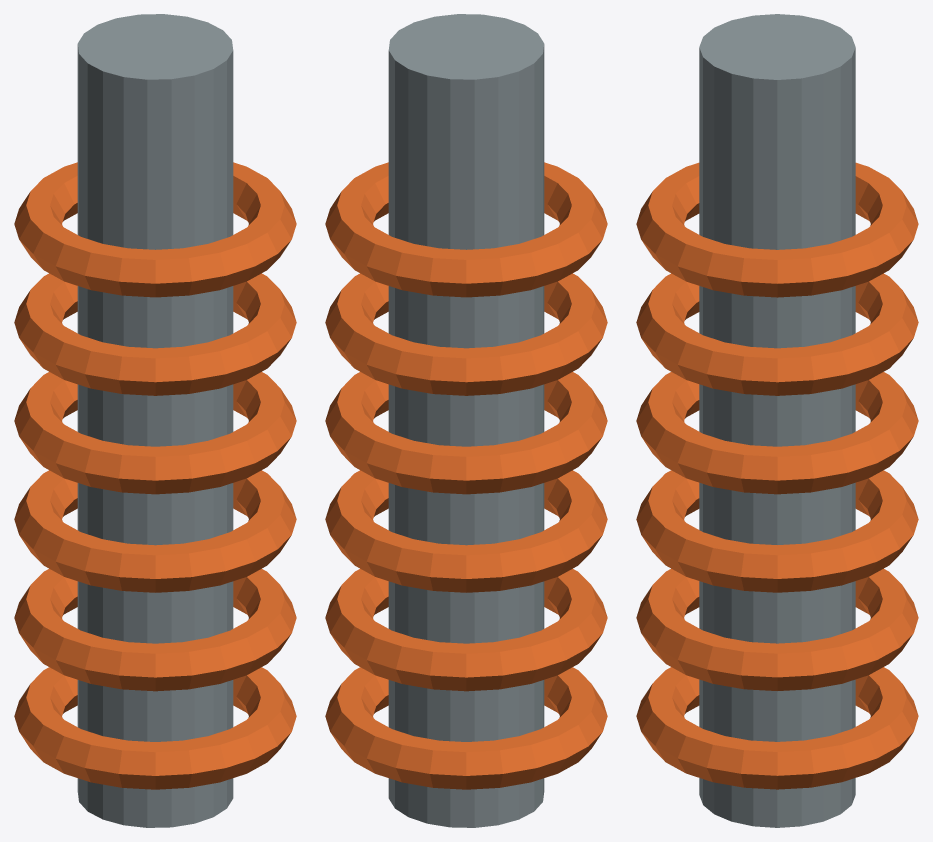
Rendered from SM_SilicaExtractor_Motion.001.fbx.
The picture shows the model from 3 angles, left to right: view 1: azimuth 30°, elevation 25°; view 2: azimuth 150°, elevation 25°; view 3: azimuth 270°, elevation 25°; orthographic projection.
Parts seen in each view (by area): view 1: SM_SilicaExtractor_Motion.001; view 2: SM_SilicaExtractor_Motion.001; view 3: SM_SilicaExtractor_Motion.001.
Boxes of the visible parts, x1,y1,x2,y2 form: SM_SilicaExtractor_Motion.001: (14,14,296,827); SM_SilicaExtractor_Motion.001: (325,14,607,827); SM_SilicaExtractor_Motion.001: (636,14,918,827).
Size of the model in its own units: 65 by 65 by 190.
